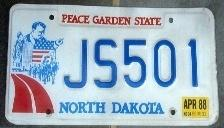0: (152, 38, 177, 88)
1: (186, 37, 203, 89)
5: (122, 38, 148, 90)
J: (63, 38, 90, 90)
S: (93, 37, 119, 88)
